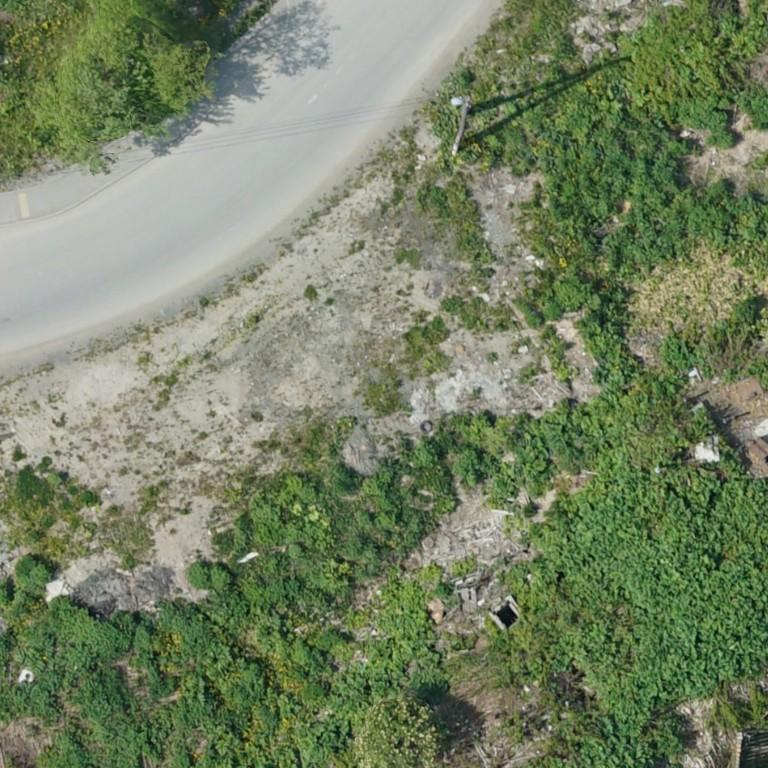hogweed: (486, 456, 767, 767), (314, 582, 450, 751)
